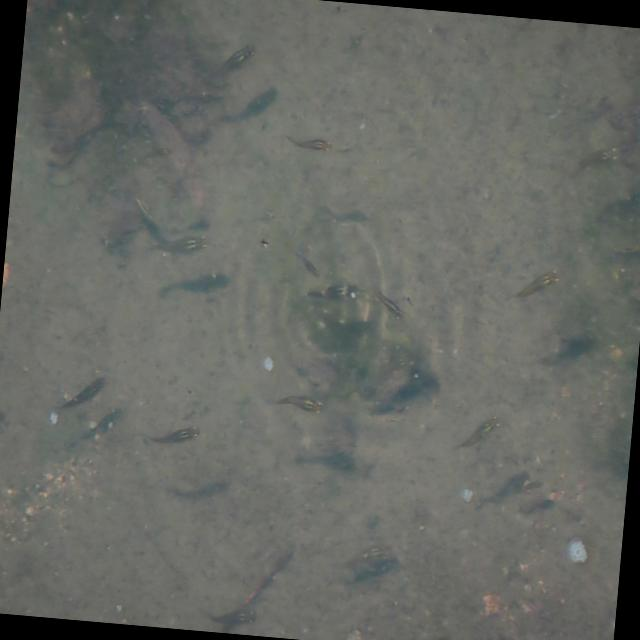Sivrisinek Baligi: (130, 200, 212, 259), (154, 264, 233, 304), (160, 468, 234, 508), (218, 82, 281, 127), (136, 414, 203, 454), (53, 368, 108, 414), (202, 40, 261, 82), (504, 262, 560, 306), (189, 600, 271, 630), (452, 412, 504, 455), (282, 128, 348, 158), (267, 386, 328, 416), (366, 284, 405, 320)
